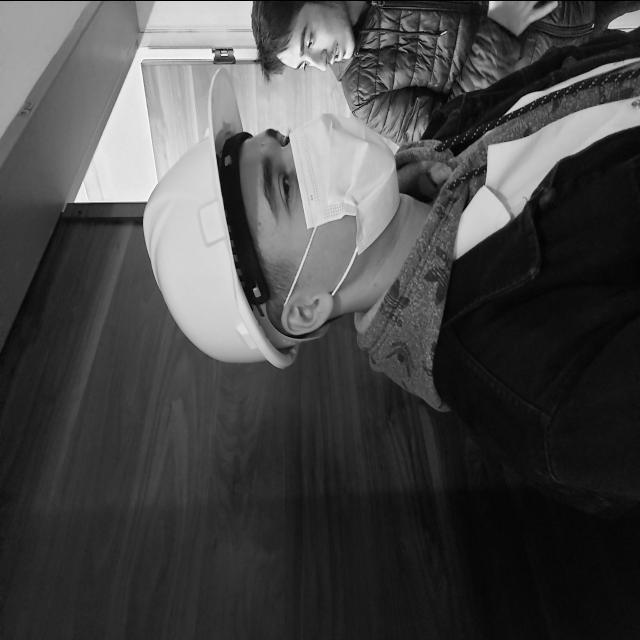safety_helmet: (144, 76, 302, 367)
